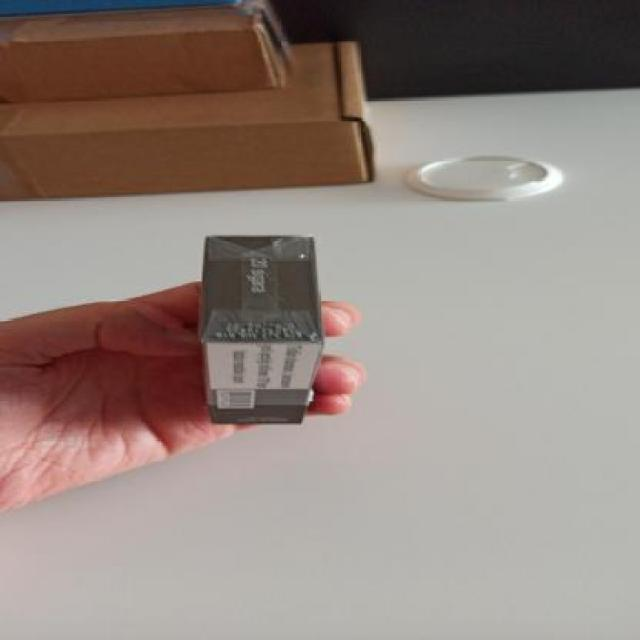-: (0, 45, 376, 192), (9, 5, 294, 94), (203, 234, 320, 427)
